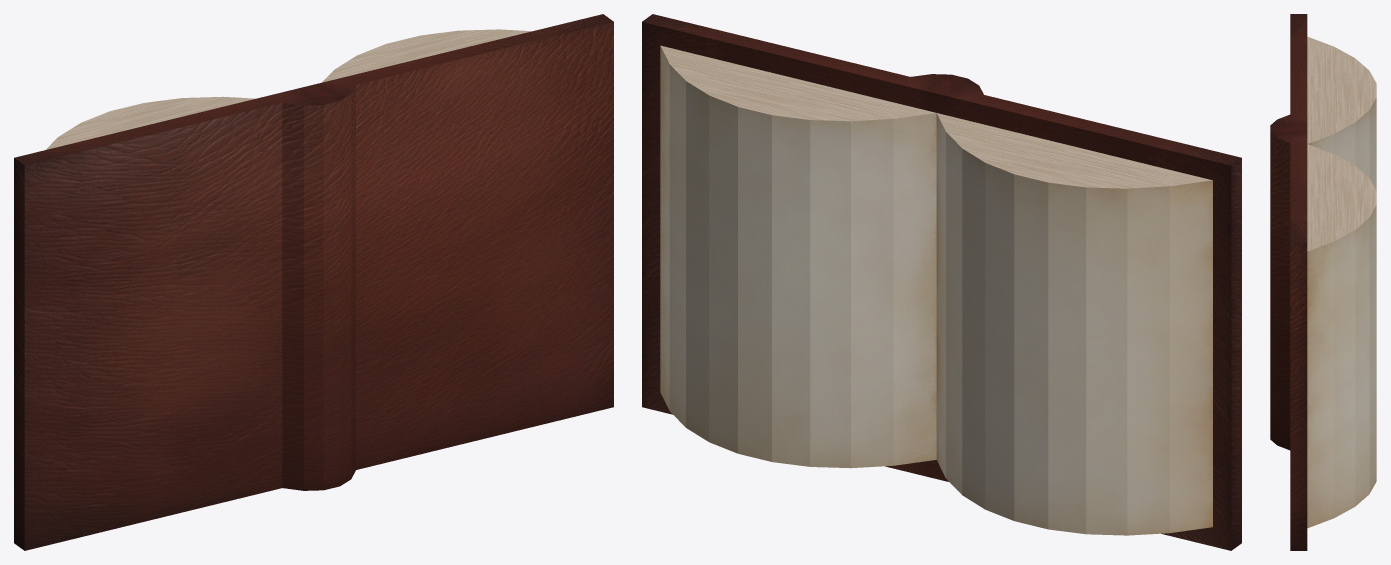
Rendered from Book_2.fbx.
3 renders of one model, left to right at view 1: azimuth 30°, elevation 25°; view 2: azimuth 150°, elevation 25°; view 3: azimuth 270°, elevation 25°, orthographic. The views are drawn at different scales.
Visible parts, largest first — view 1: Book_2; view 2: Book_2; view 3: Book_2.
Part boxes in pixels (bbox=[...]): Book_2: bbox=[14, 14, 613, 550]; Book_2: bbox=[642, 14, 1241, 550]; Book_2: bbox=[1270, 14, 1376, 550].
Bounding box in the file's own units: 160 × 100 × 31.39.
1 material, 1 textured.
